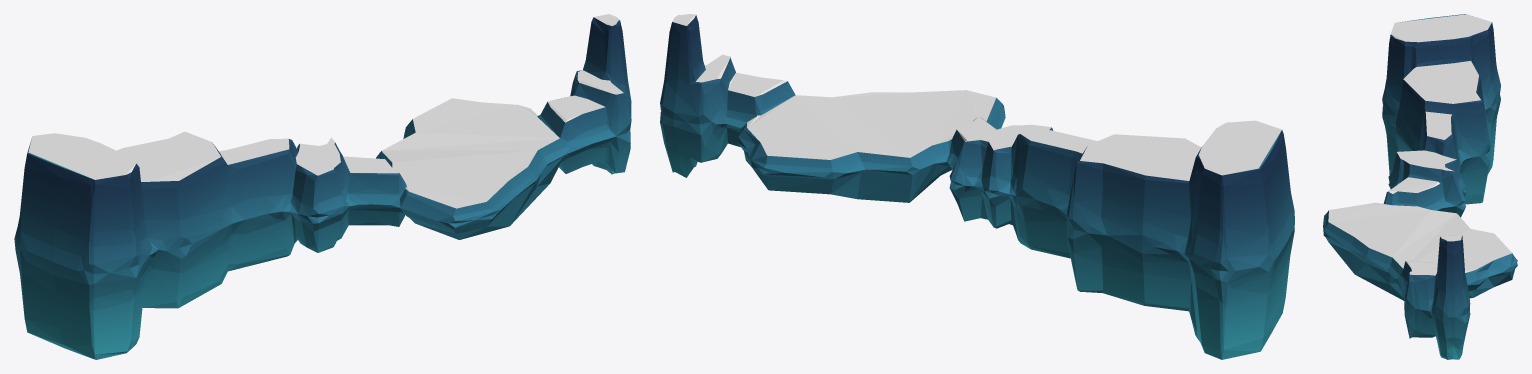
The model's file is MOD_Level1.fbx.
3 views of the same model, side by side, from view 1: azimuth 30°, elevation 25°; view 2: azimuth 150°, elevation 25°; view 3: azimuth 270°, elevation 25° (orthographic). The views are drawn at different scales.
Visible parts, largest first — view 1: MOD_Level1; view 2: MOD_Level1; view 3: MOD_Level1.
Part boxes in pixels (x1=…): MOD_Level1: x1=14, y1=14, x2=631, y2=359; MOD_Level1: x1=660, y1=14, x2=1294, y2=359; MOD_Level1: x1=1323, y1=14, x2=1517, y2=359.
Bounding box in the file's own units: 6.83 × 1.96 × 2.38.
2 materials, 1 textured.
